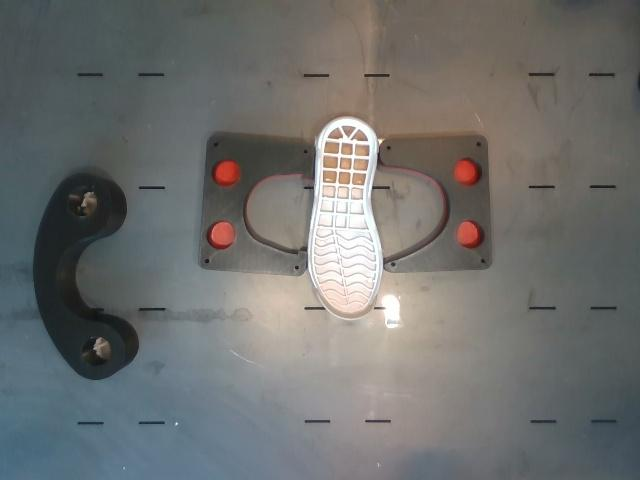shoes: (311, 118, 381, 320)
